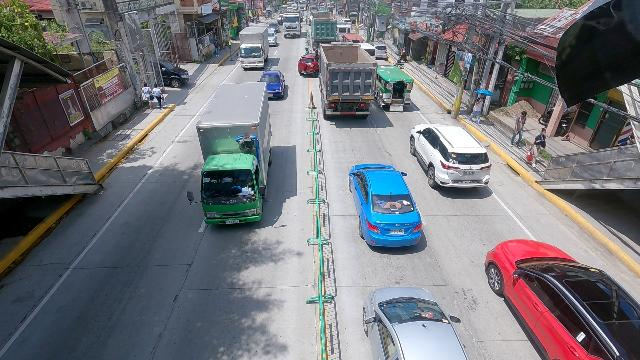car: (481, 237, 640, 360), (361, 284, 471, 360), (345, 162, 424, 253), (408, 123, 491, 194), (134, 58, 190, 88), (258, 69, 286, 100), (298, 51, 319, 76), (373, 42, 389, 59), (267, 30, 278, 47), (269, 21, 280, 35), (341, 17, 352, 27)
jeepney: (373, 63, 414, 112)
truck: (185, 80, 275, 230), (316, 40, 378, 122), (239, 26, 269, 72), (310, 10, 337, 49), (282, 13, 302, 39)
